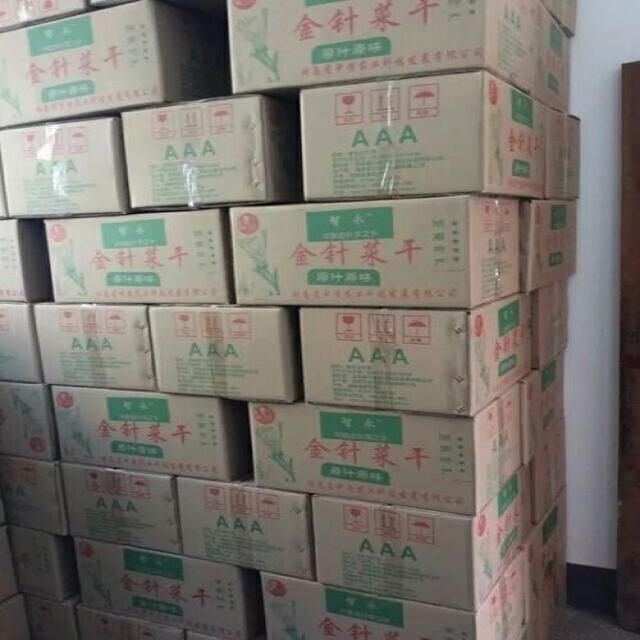box: (250, 381, 524, 516), (232, 195, 521, 309), (314, 463, 534, 611), (300, 68, 547, 199), (228, 0, 541, 95), (296, 291, 531, 415), (260, 538, 535, 640), (0, 0, 215, 128), (124, 94, 293, 211), (45, 208, 229, 303), (47, 384, 229, 480), (74, 540, 246, 639), (173, 477, 316, 579), (152, 305, 294, 402), (0, 114, 125, 220), (59, 463, 182, 556), (33, 303, 156, 390), (529, 484, 573, 638), (4, 523, 77, 603), (515, 352, 567, 461), (0, 453, 64, 536), (526, 200, 582, 291), (0, 382, 58, 462), (0, 221, 54, 302), (530, 421, 570, 530), (527, 277, 572, 371), (536, 4, 573, 114), (74, 606, 186, 638), (0, 303, 42, 384), (548, 106, 582, 201), (14, 594, 82, 640)
